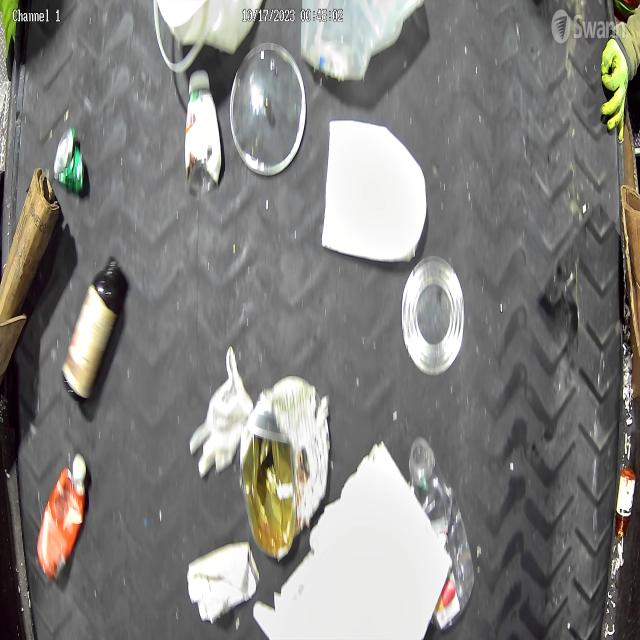can: (241, 375, 331, 561), (404, 257, 463, 377), (54, 128, 85, 196)
milk_jug: (300, 0, 428, 83)
plastic_bottle: (408, 436, 476, 636)
